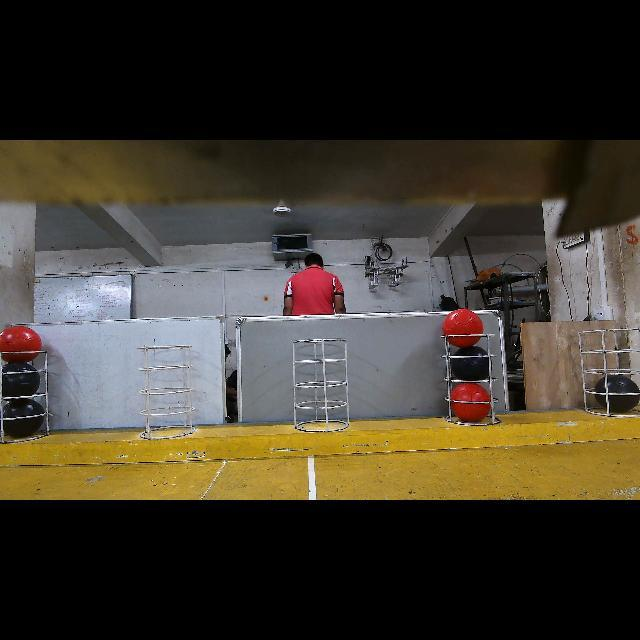P: (3, 398, 45, 438), (594, 375, 639, 412), (451, 345, 492, 381), (2, 362, 40, 397)
R: (443, 309, 484, 347), (0, 326, 41, 363), (451, 383, 489, 422)
S: (440, 334, 502, 428), (576, 328, 640, 418), (136, 346, 197, 440), (292, 338, 352, 432), (0, 351, 50, 444)
